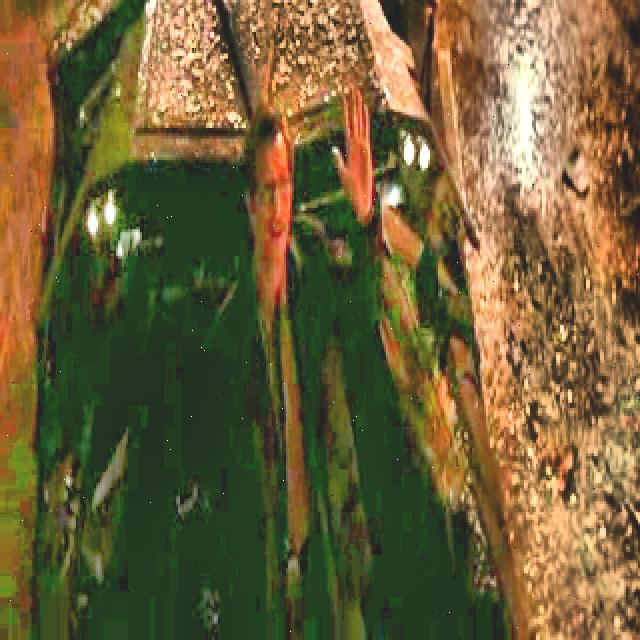L: (108, 107, 385, 640)
